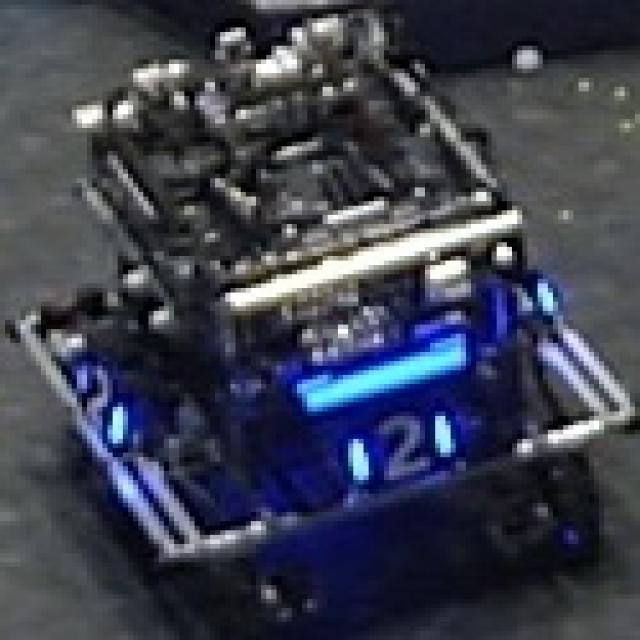B2: (343, 407, 456, 489), (72, 357, 133, 448)
